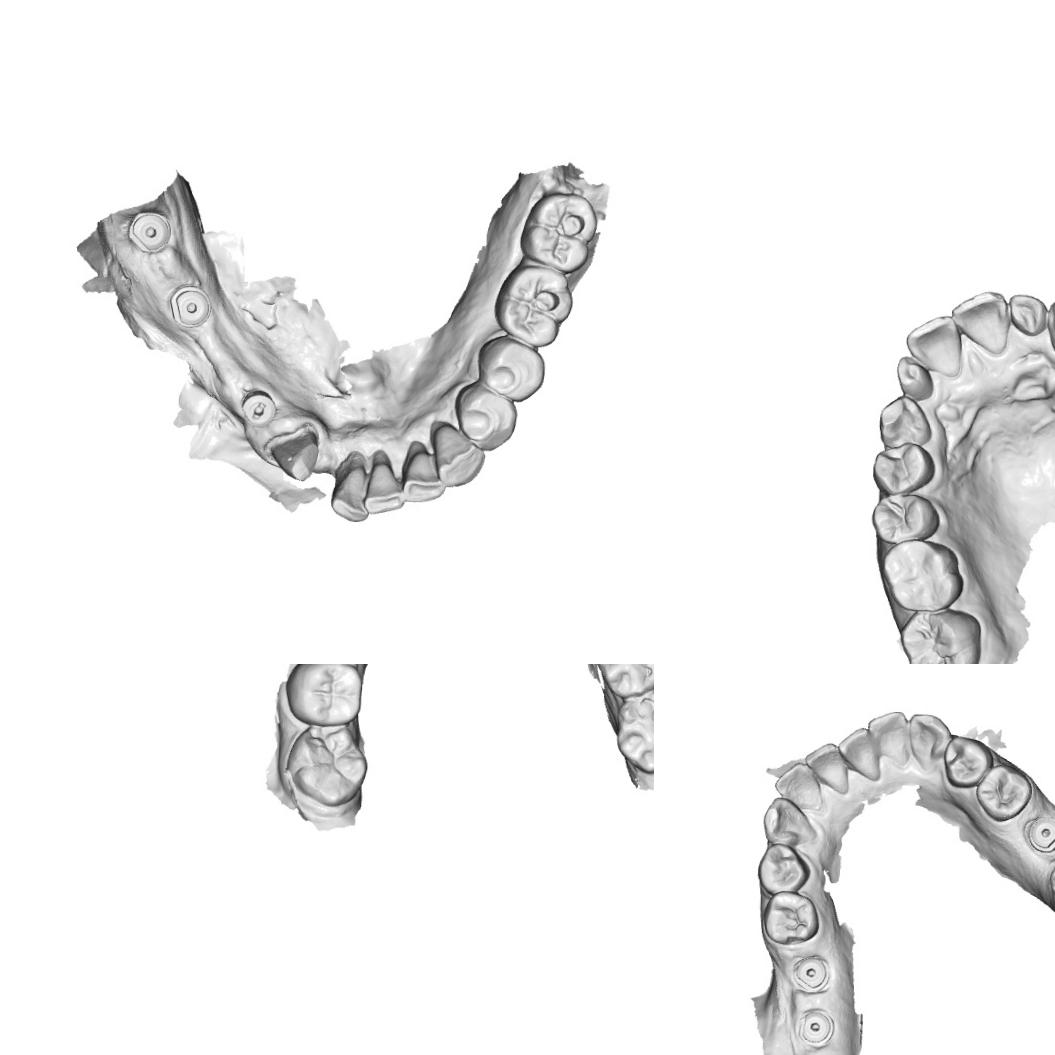canine: (430, 427, 486, 489), (876, 393, 934, 450), (760, 795, 821, 849), (906, 712, 951, 776)
crown: (268, 424, 320, 486)
implant: (127, 208, 172, 256), (170, 282, 212, 330), (796, 1006, 836, 1048), (791, 954, 832, 990), (1025, 814, 1055, 854)
implant_minus: (238, 390, 280, 426)
incisor: (949, 288, 1011, 355), (904, 312, 963, 380), (328, 458, 376, 524), (799, 737, 853, 794), (360, 455, 408, 518), (834, 726, 884, 786), (399, 444, 447, 505), (866, 710, 912, 769), (773, 759, 822, 806), (1007, 292, 1052, 338), (895, 356, 935, 400)
molar: (283, 722, 370, 808), (492, 261, 574, 346), (878, 536, 966, 614), (518, 189, 595, 274), (283, 664, 364, 727), (897, 608, 982, 664), (612, 689, 654, 776), (591, 664, 654, 699)
premolar: (474, 333, 548, 402), (451, 382, 518, 453), (972, 760, 1036, 826), (868, 439, 937, 498), (868, 492, 943, 545), (760, 889, 822, 947), (754, 840, 812, 898), (940, 733, 994, 790)
